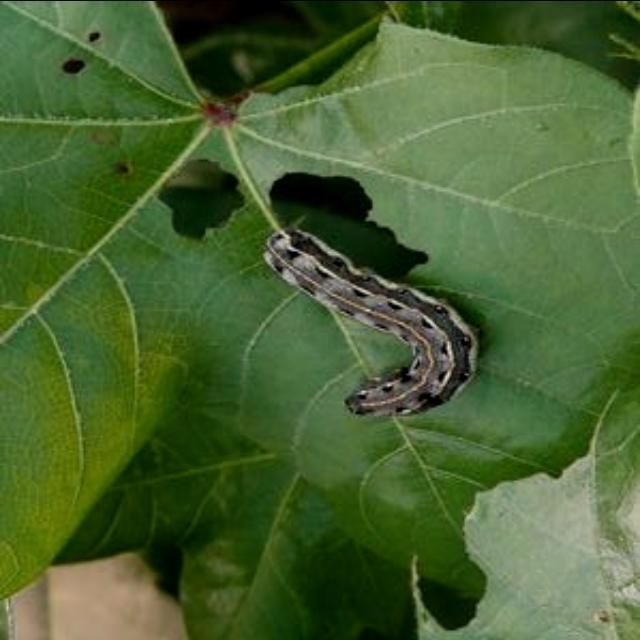Tobacco cutworm: (252, 209, 496, 463)
